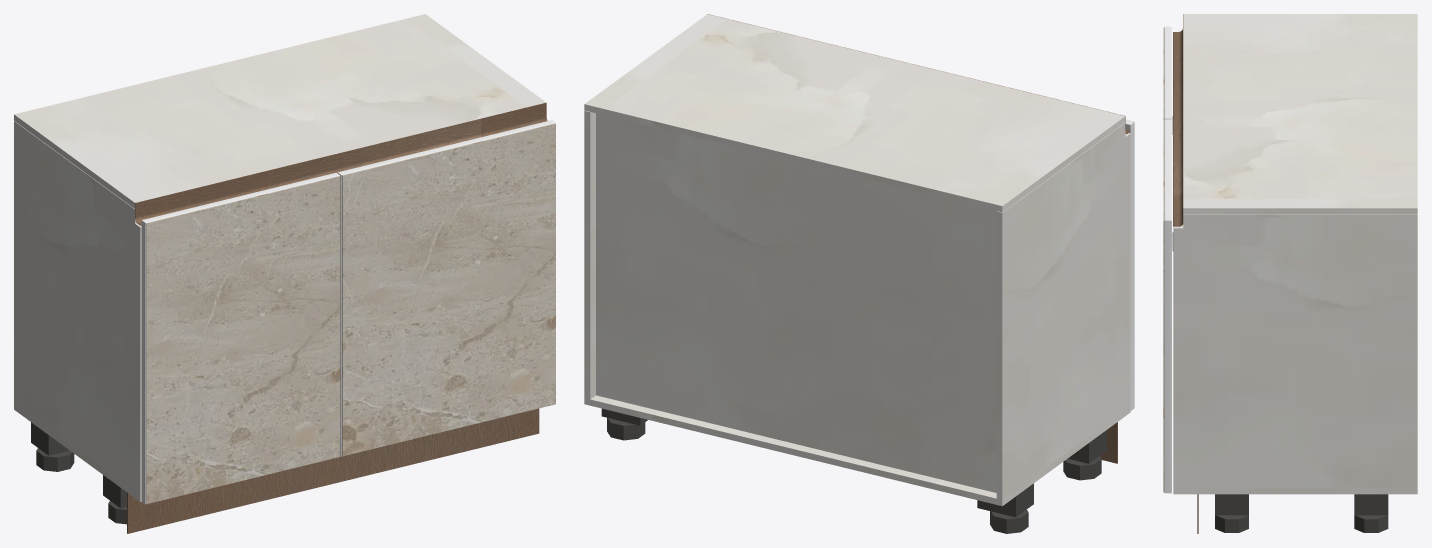
The model's file is S550_BBCLC1HS_LH_CJ (H720xW1050xD560).glb.
The picture shows the model from 3 angles, left to right: view 1: azimuth 30°, elevation 25°; view 2: azimuth 150°, elevation 25°; view 3: azimuth 270°, elevation 25°; orthographic projection. The views are drawn at different scales.
Size of what is drawn, in the model's own units: 1.05 by 0.82 by 0.5809.
16 materials, 3 textured.
